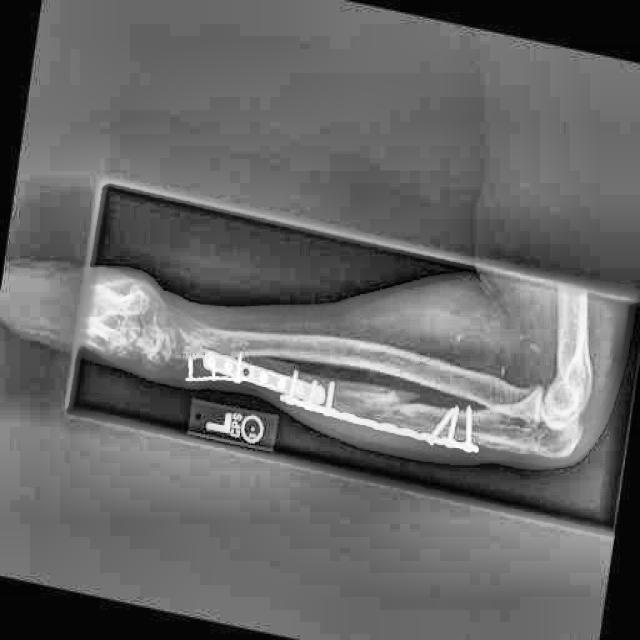forearm fracture: (347, 375, 435, 442)
